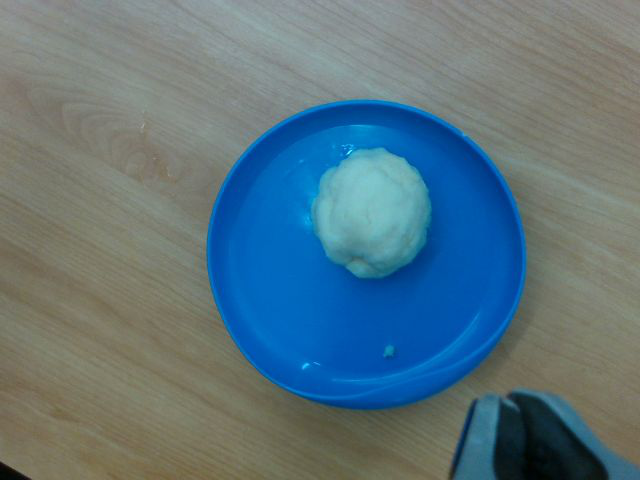mashed_potato: (313, 148, 432, 275)
